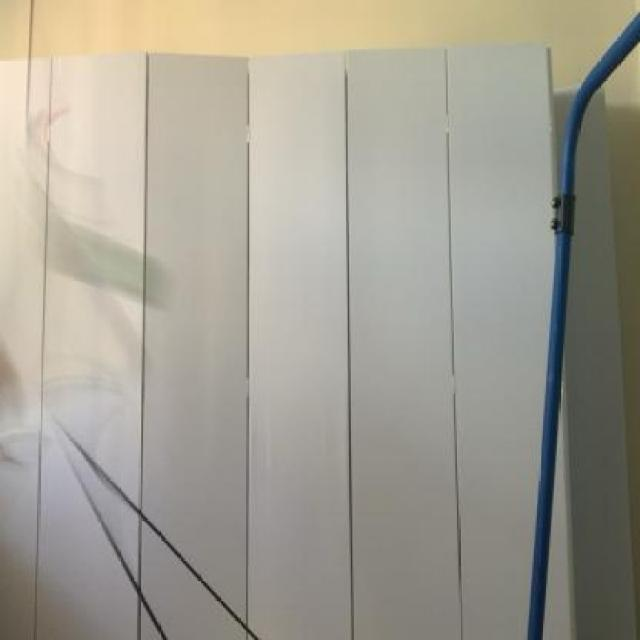baseball: (55, 214, 179, 303)
